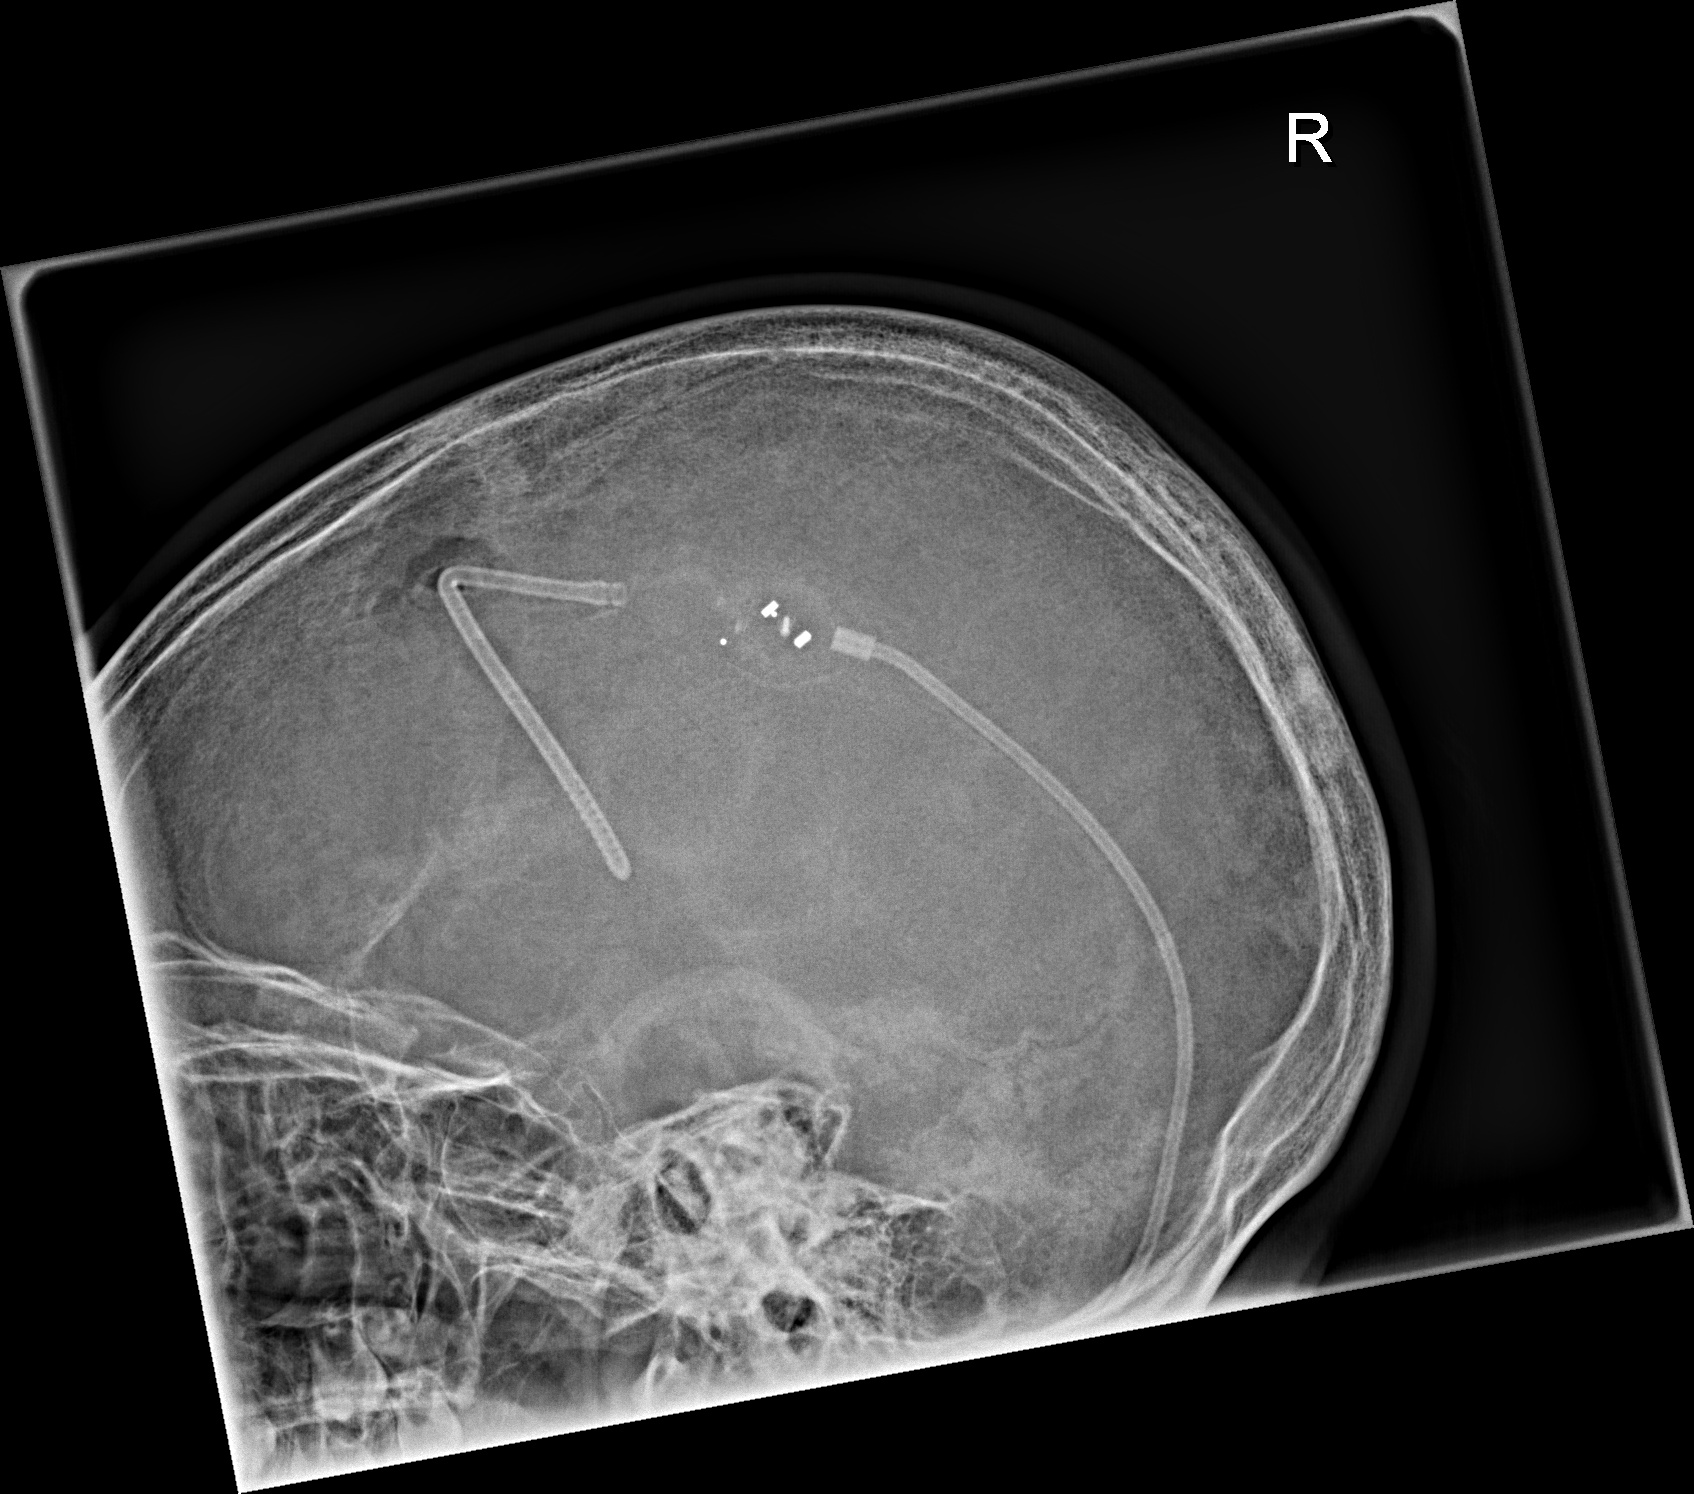Codman Certas: (709, 571, 845, 702)
